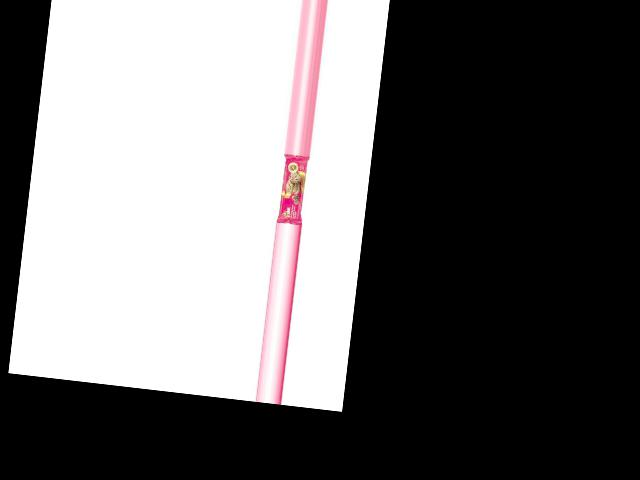chocolate: (277, 155, 311, 226)
